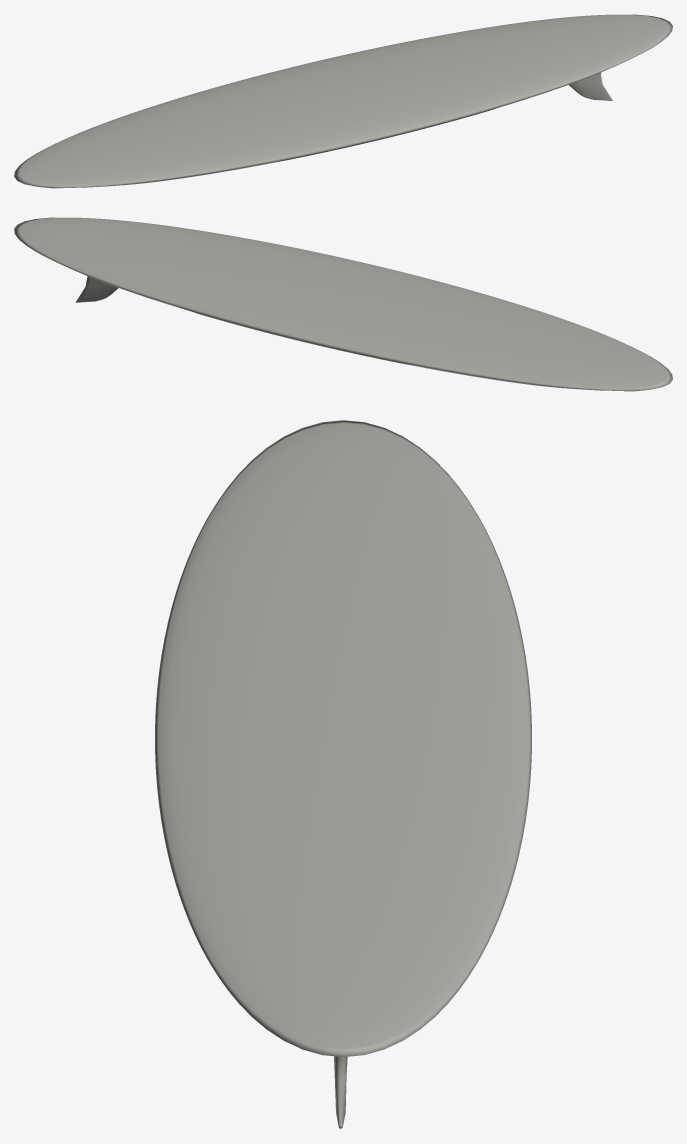
3 views of the same model, one above another, from view 1: azimuth 30°, elevation 25°; view 2: azimuth 150°, elevation 25°; view 3: azimuth 270°, elevation 25° (orthographic). The views are drawn at different scales.
Parts seen in each view (by area): view 1: sufrboard_1, PM3D_Cube3D1_1; view 2: sufrboard_1, PM3D_Cube3D1_1; view 3: sufrboard_1.
Part boxes in pixels (x1,y1,x2,y2): sufrboard_1: (14,14,672,188); PM3D_Cube3D1_1: (569,72,612,100); sufrboard_1: (14,217,672,391); PM3D_Cube3D1_1: (75,276,118,302); sufrboard_1: (155,420,531,1056).
Bounding box in the file's own units: 2 × 0.2114 × 0.5004.
2 materials, 2 textured.
